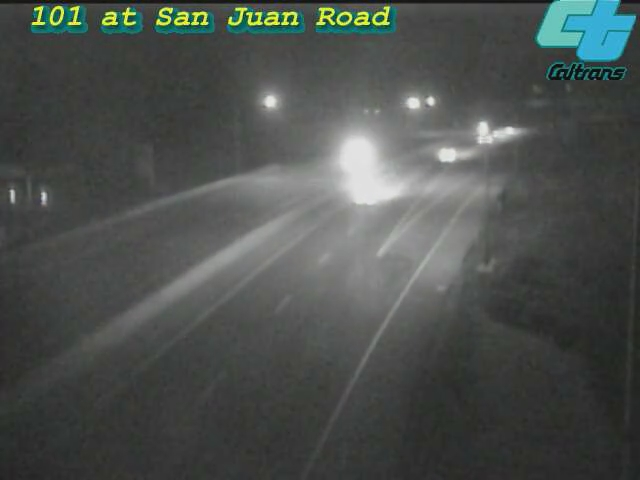vehicle: (316, 116, 396, 196), (333, 150, 413, 230), (456, 101, 506, 151), (487, 104, 537, 154), (458, 113, 508, 163), (424, 129, 474, 179)
